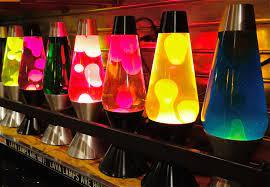Lamp: (199, 0, 270, 186), (145, 3, 202, 187), (101, 13, 147, 184), (67, 15, 109, 163), (15, 18, 53, 137), (42, 20, 76, 147), (0, 22, 31, 129)
